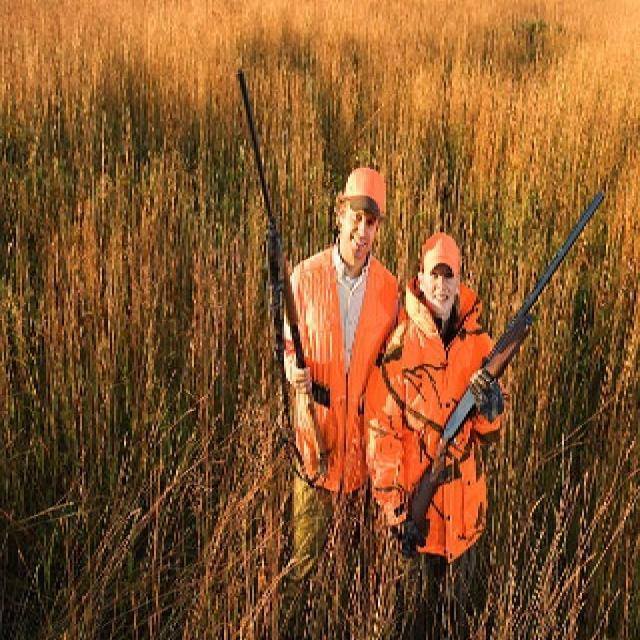weapon: (386, 188, 610, 558), (228, 66, 332, 487)
